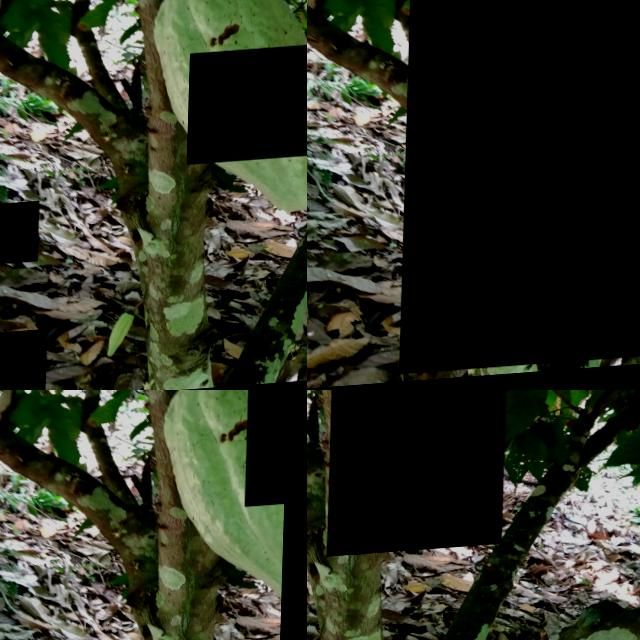Fitoftora: (329, 390, 509, 559), (189, 40, 307, 167)
Monilia: (403, 0, 640, 376), (0, 202, 42, 264)
Sana: (0, 330, 50, 390)
